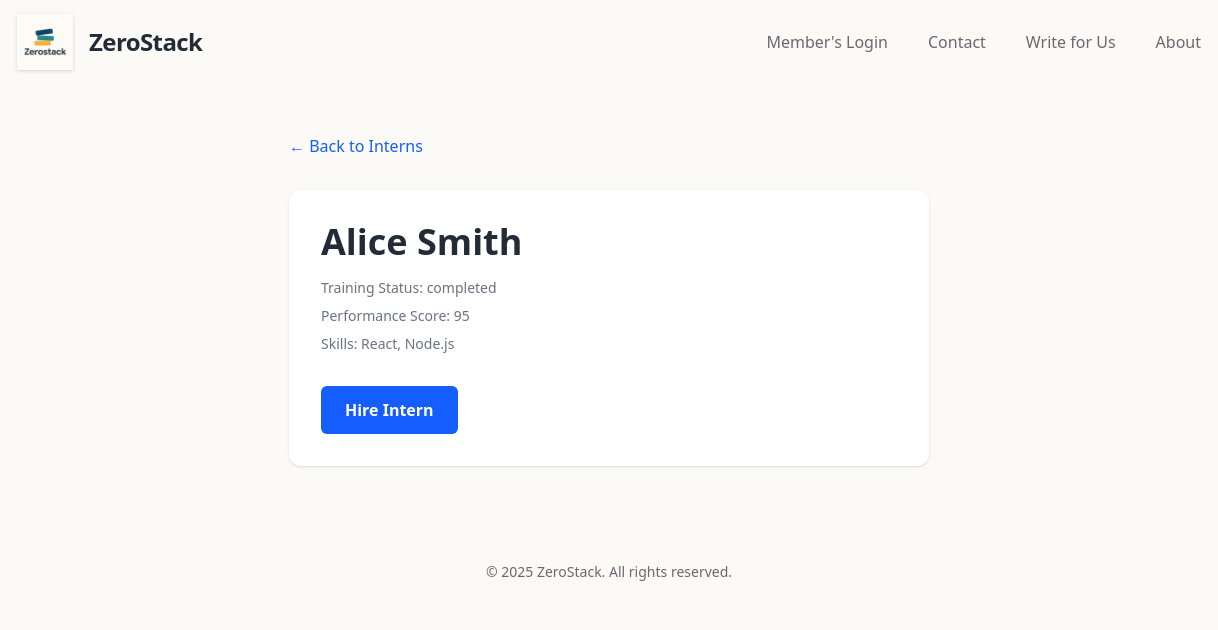
InternProfile Page › shows hiring and success state on hire
What coordinates should you click on to do the following:
click the button "Hire Intern"
I would click on:
 (389, 410)
Its box is [321, 386, 458, 434].
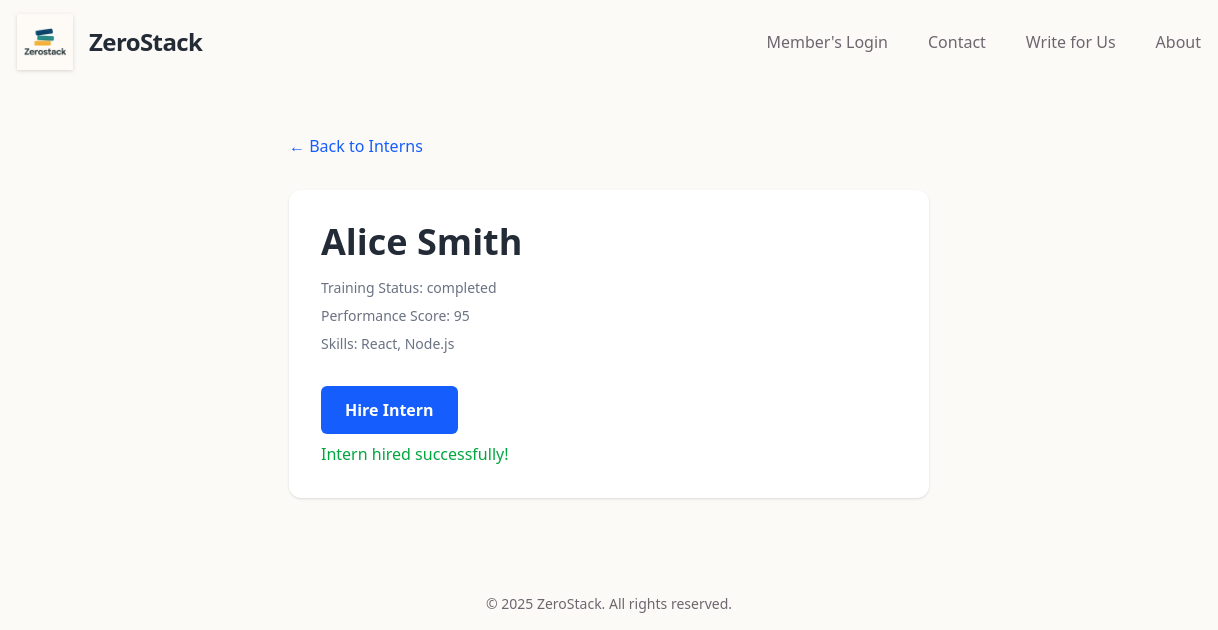
Expected: the text "Intern hired successfully!" is shown, [321, 443, 508, 465]
